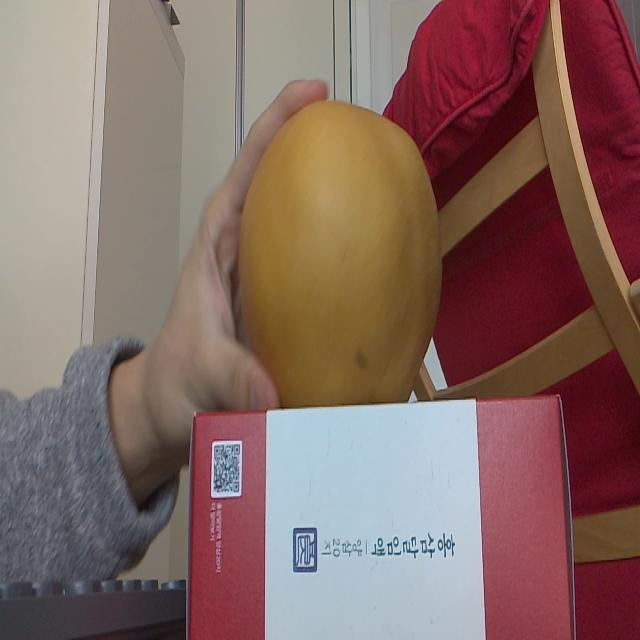pear: (240, 94, 445, 412)
